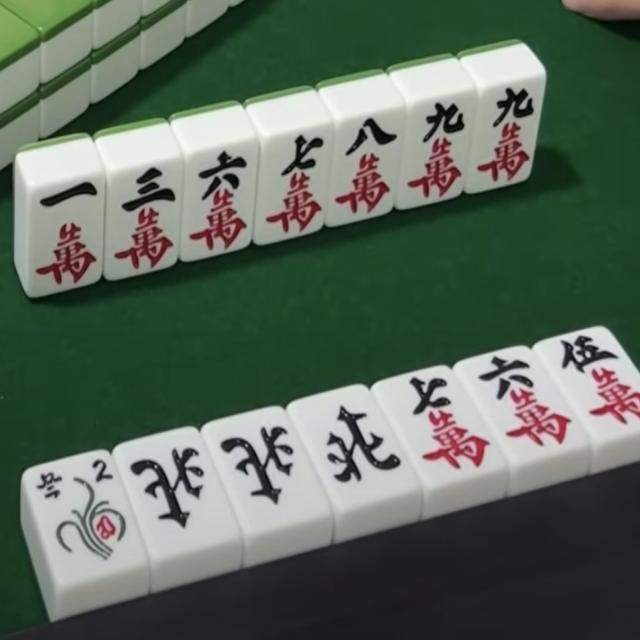1C: (19, 175, 112, 298)
2F: (22, 449, 137, 588)
3C: (104, 160, 188, 280)
5C: (544, 325, 640, 440)
6C: (469, 345, 578, 462), (182, 145, 262, 263)
7C: (384, 370, 495, 487), (256, 126, 336, 242)
8C: (329, 110, 410, 225)
9C: (398, 94, 478, 210), (471, 79, 546, 194)
NW: (310, 388, 408, 500), (224, 409, 308, 522), (132, 443, 216, 539)
